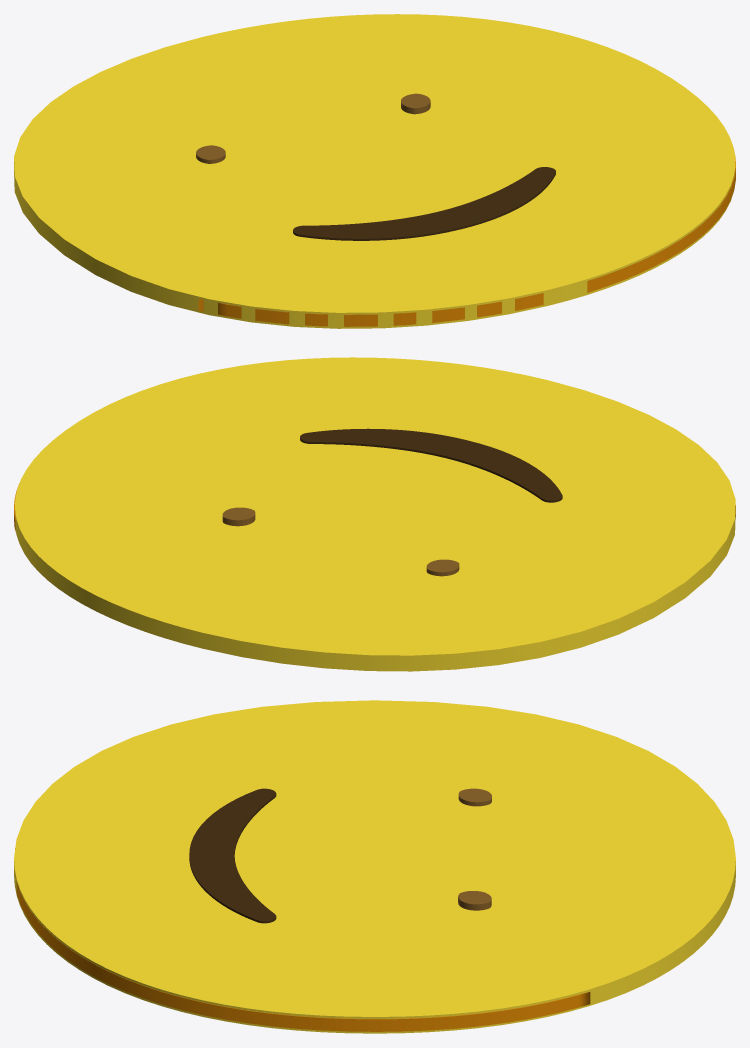
File: emoji_u1f642.glb
3 views of the same model, one above another, from view 1: azimuth 30°, elevation 25°; view 2: azimuth 150°, elevation 25°; view 3: azimuth 270°, elevation 25° (orthographic). The views are drawn at different scales.
Visible parts, largest first — view 1: emoji_u1f642; view 2: emoji_u1f642; view 3: emoji_u1f642.
Boxes of the visible parts, x1,y1,x2,y2 form: emoji_u1f642: (14, 14, 735, 328); emoji_u1f642: (14, 357, 735, 671); emoji_u1f642: (14, 700, 735, 1033).
Size of the model in its own units: 0.0327 by 0.0014 by 0.0315.
